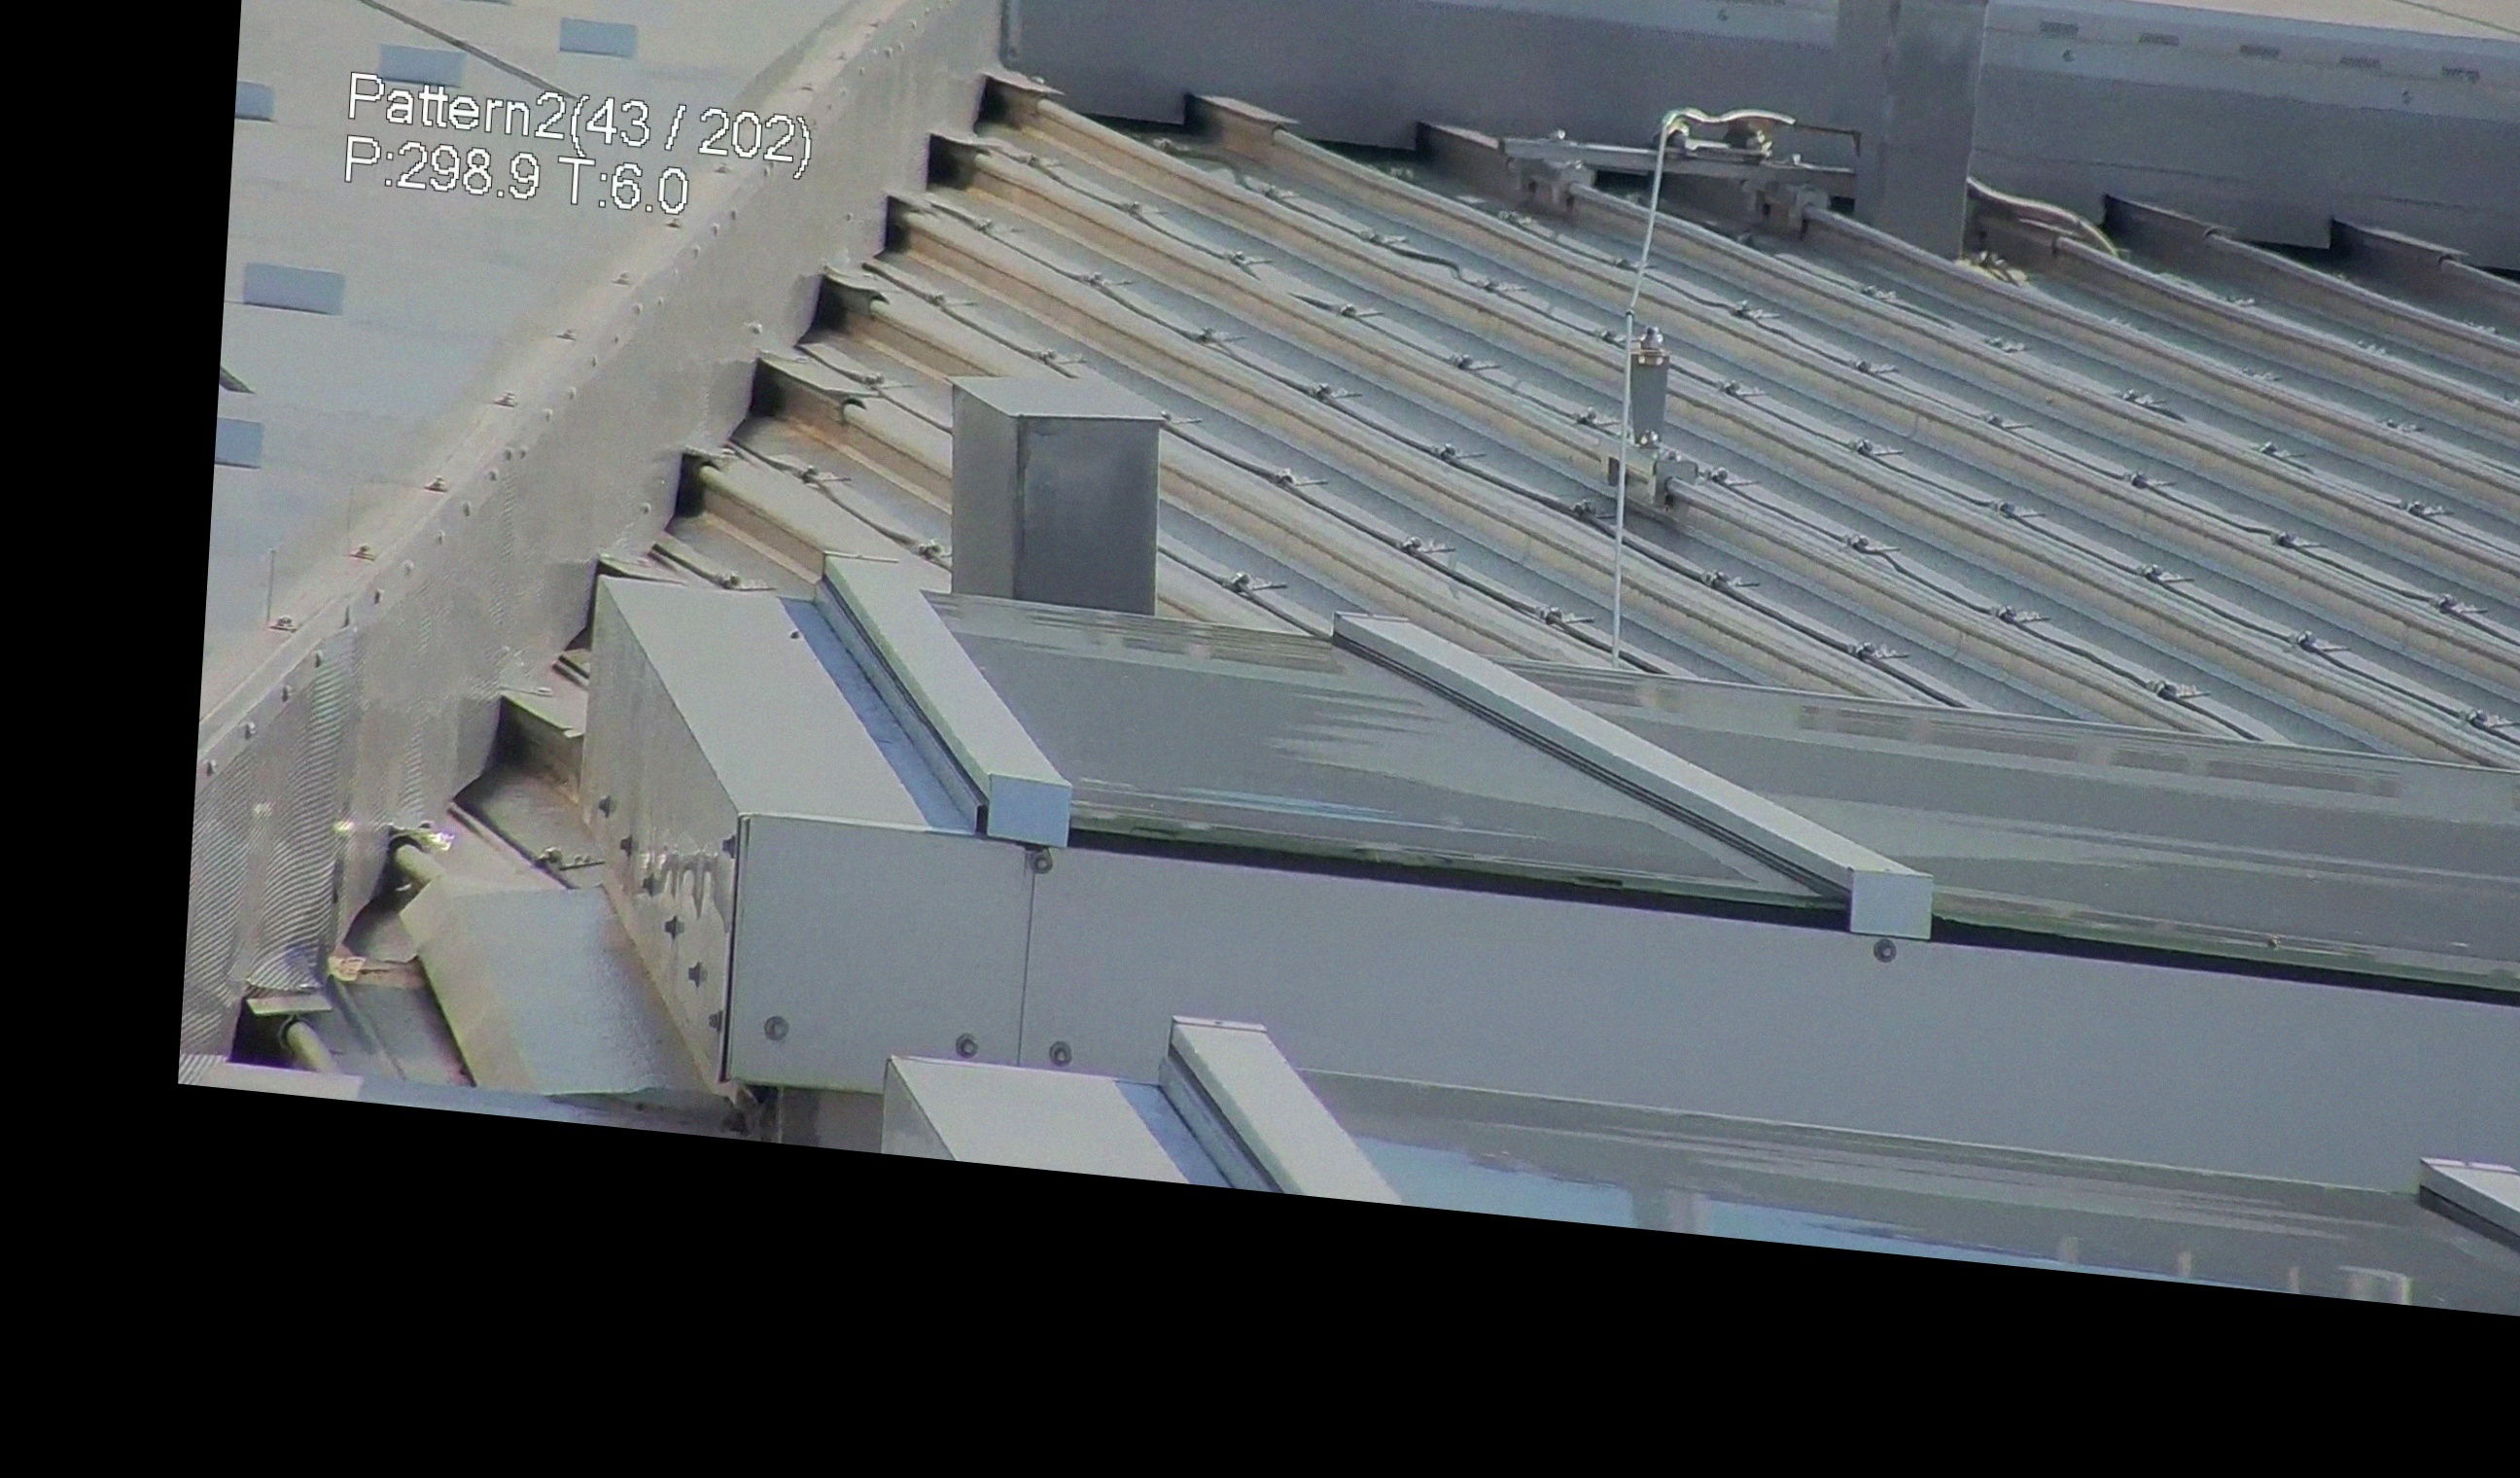Other: (318, 801, 455, 987)
